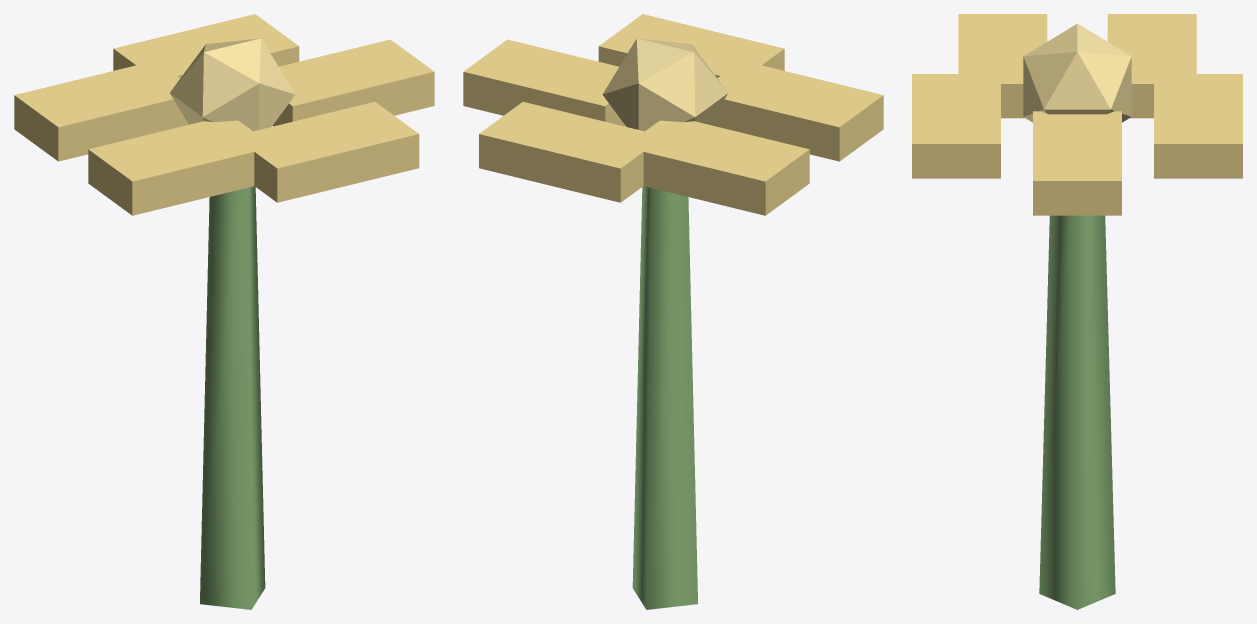
The model's file is flower_1.glb.
3 renders of one model, left to right at view 1: azimuth 30°, elevation 25°; view 2: azimuth 150°, elevation 25°; view 3: azimuth 270°, elevation 25°, orthographic.
Parts seen in each view (by area): view 1: flower_1; view 2: flower_1; view 3: flower_1.
Part boxes in pixels (<box>): flower_1: <box>14,14,434,609</box>; flower_1: <box>463,14,883,609</box>; flower_1: <box>912,14,1242,609</box>.
Bounding box in the file's own units: 0.3109 × 0.4825 × 0.2602.
